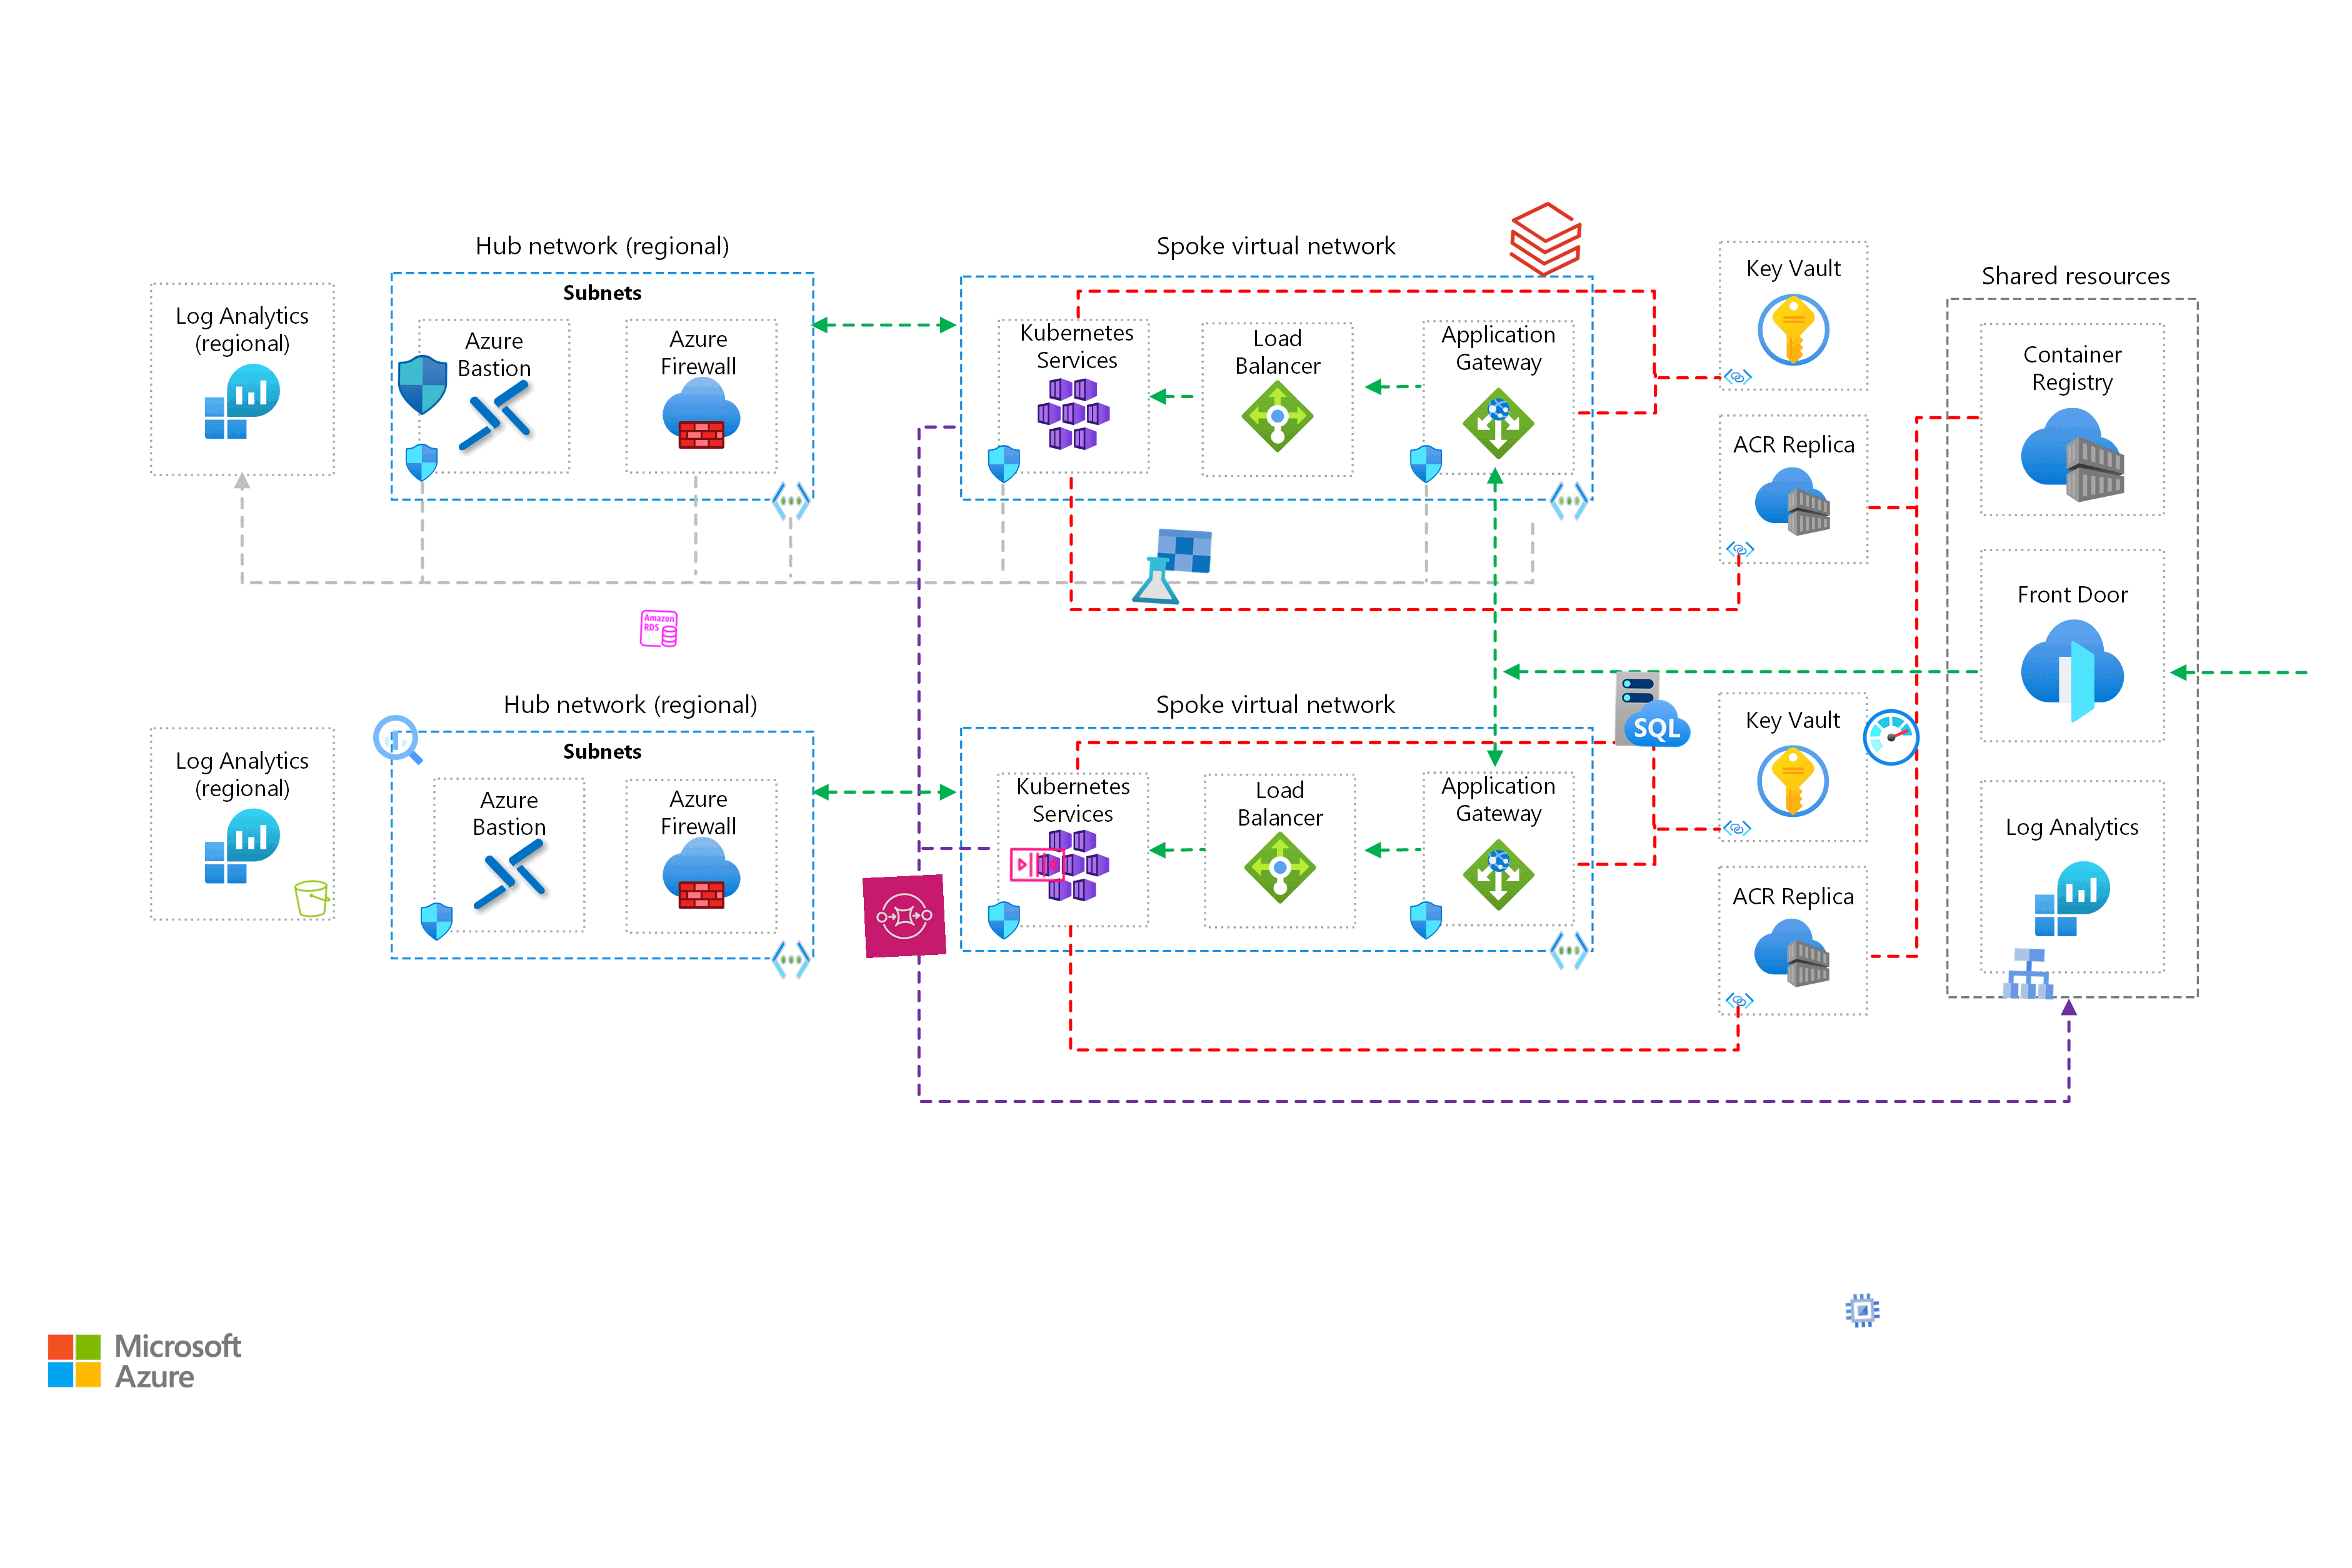aws_amazon_simple_queue_service: (863, 875, 947, 957)
aws_aurora_amazon_rds_instance: (637, 607, 681, 649)
aws_simple_queue_service_queue: (1006, 833, 1067, 894)
aws_simple_storage_service_bucket: (290, 877, 334, 920)
azure_databricks: (1503, 196, 1589, 282)
azure_machine_learning_studio_workspaces: (1129, 525, 1214, 609)
azure_monitor: (1860, 707, 1923, 768)
azure_network_security_groups: (392, 353, 453, 415)
azure_sql_managed_instance: (1612, 668, 1694, 751)
gcp_bigquery: (367, 709, 429, 770)
gcp_cloud_load_balancing: (1997, 943, 2060, 1004)
gcp_compute_engine: (1841, 1290, 1883, 1332)
